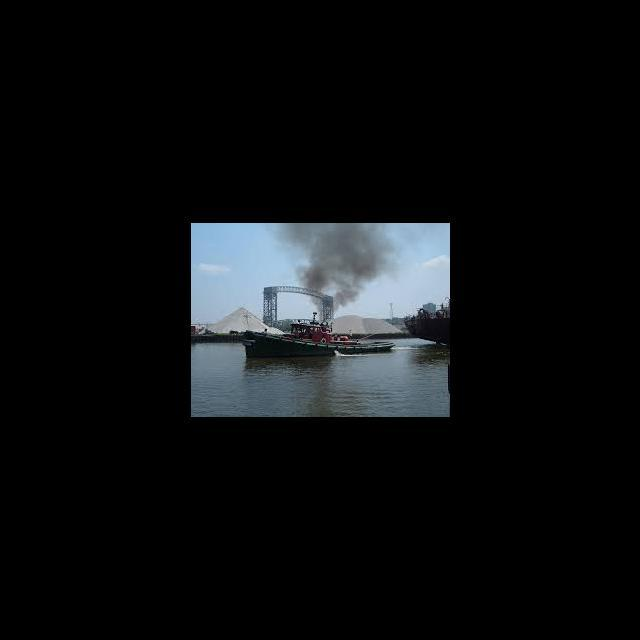Smoke: (275, 224, 399, 308)
